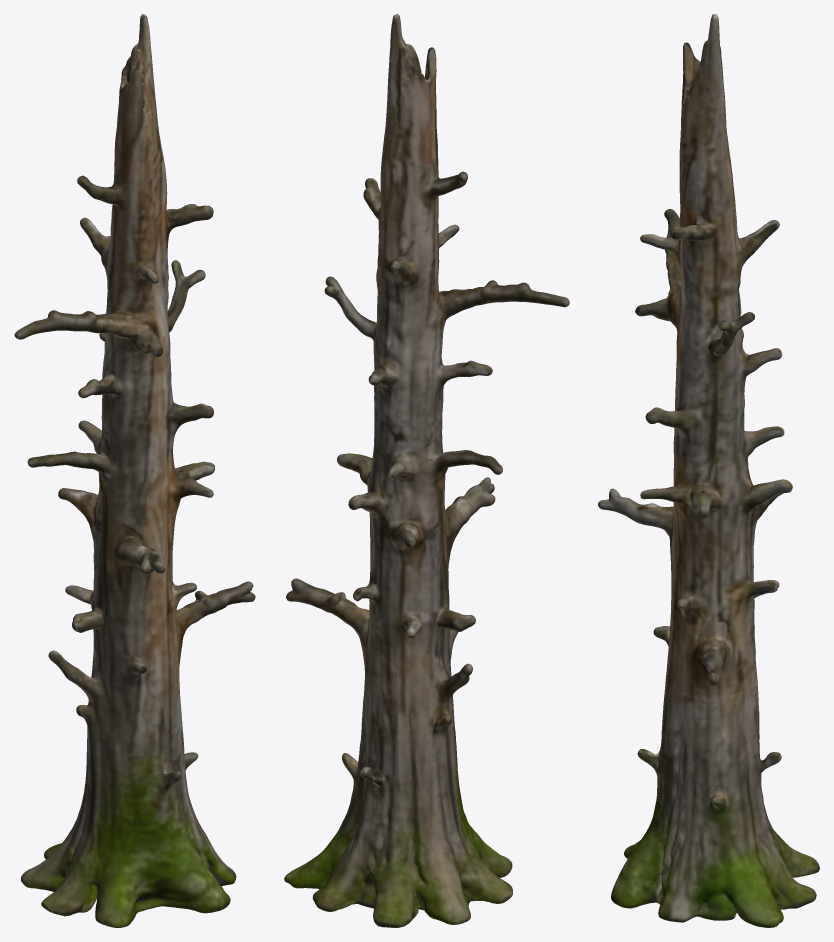
Rendered from fir-snag.glb.
The picture shows the model from 3 angles, left to right: view 1: azimuth 30°, elevation 25°; view 2: azimuth 150°, elevation 25°; view 3: azimuth 270°, elevation 25°; orthographic projection.
Visible parts, largest first — view 1: geometry_0; view 2: geometry_0; view 3: geometry_0.
Boxes of the visible parts, box(x1,y1,x2,y2) form: geometry_0: box(14, 14, 255, 927); geometry_0: box(284, 14, 569, 927); geometry_0: box(598, 14, 819, 927).
Size of the model in its own units: 113399 by 360437 by 82852.
Materials: 1 (1 with a texture image).
